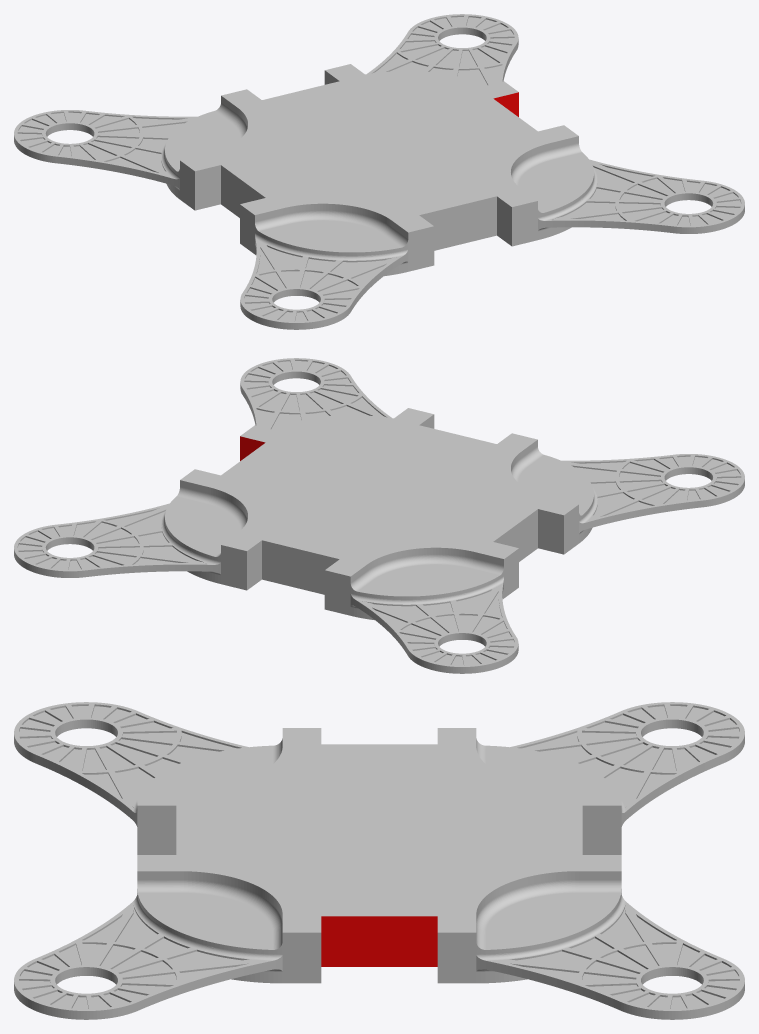
Rendered from Modelo_Quad__2__STEP_633_634_635.obj.
3 views of the same model, one above another, from view 1: azimuth 30°, elevation 25°; view 2: azimuth 150°, elevation 25°; view 3: azimuth 270°, elevation 25° (orthographic). The views are drawn at different scales.
Parts seen in each view (by area): view 1: Object1; view 2: Object1; view 3: Object1.
Part boxes in pixels (x1=…): Object1: x1=14, y1=14, x2=744, y2=329; Object1: x1=14, y1=358, x2=744, y2=673; Object1: x1=14, y1=702, x2=744, y2=1019.
Size of the model in its own units: 1955 by 150 by 1955.
